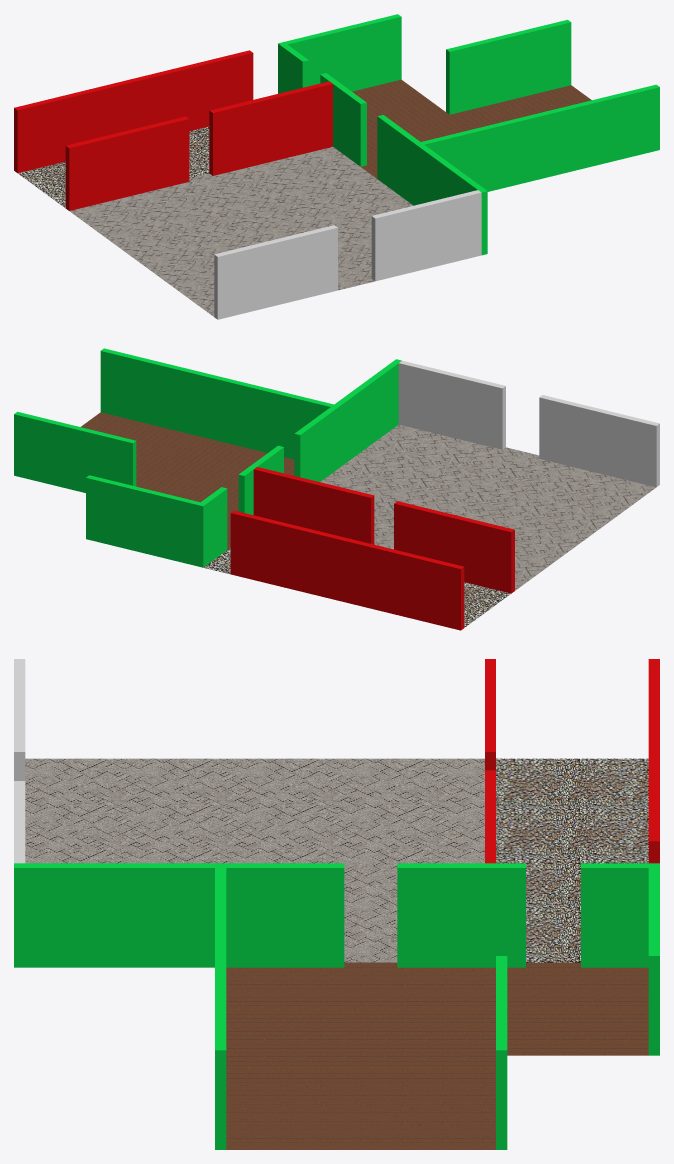
The model's file is floors2.gltf.
3 views of the same model, one above another, from view 1: azimuth 30°, elevation 25°; view 2: azimuth 150°, elevation 25°; view 3: azimuth 270°, elevation 25° (orthographic). The views are drawn at different scales.
Parts seen in each view (by area): view 1: room1, Cube.010, Cube.012, Cube.011, Cube.008, Cube.004, Cube.009, Cube.006, room0, Cube.003, Cube.001, Cube.005 (+2 smaller); view 2: room1, Cube.012, Cube.010, room0, Cube.004, Cube.003, Cube.011, Cube.006, Cube.008, Cube.001, Cube.009, Cube.007 (+2 smaller); view 3: room0, room1, Cube.001, room2, Cube.005, Cube.007, Cube.010, Cube.012, Cube.011, Cube.003, Cube.004, Cube.008 (+2 smaller).
Part boxes in pixels (x1,y1,x2,y2): room1: [69, 147, 413, 316]; Cube.010: [421, 84, 659, 191]; Cube.012: [14, 50, 253, 173]; Cube.011: [446, 19, 571, 114]; Cube.008: [65, 116, 189, 210]; Cube.004: [214, 225, 337, 319]; Cube.009: [209, 81, 332, 175]; Cube.006: [371, 190, 481, 281]; room0: [352, 79, 591, 178]; Cube.003: [284, 14, 401, 91]; Cube.001: [377, 115, 487, 255]; Cube.005: [320, 73, 366, 166]; room1: [320, 424, 655, 590]; Cube.012: [230, 510, 464, 630]; Cube.010: [100, 348, 333, 459]; room0: [81, 412, 294, 549]; Cube.004: [539, 395, 659, 487]; Cube.003: [86, 475, 199, 565]; Cube.011: [14, 411, 136, 492]; Cube.006: [398, 360, 505, 449]; Cube.008: [394, 501, 514, 593]; Cube.001: [294, 359, 401, 481]; Cube.009: [253, 467, 374, 544]; Cube.007: [197, 487, 227, 567]; room0: [226, 962, 648, 1149]; room1: [25, 758, 484, 962]; Cube.001: [14, 863, 344, 967]; room2: [496, 758, 648, 962]; Cube.005: [397, 863, 525, 967]; Cube.007: [581, 863, 659, 967]; Cube.010: [215, 868, 226, 1149]; Cube.012: [648, 659, 659, 863]; Cube.011: [496, 956, 507, 1149]; Cube.003: [648, 868, 659, 1055]; Cube.004: [14, 659, 25, 780]; Cube.008: [485, 659, 495, 770].
Bounding box in the file's own units: 8.42 × 1 × 5.88.
5 materials, 3 textured.
